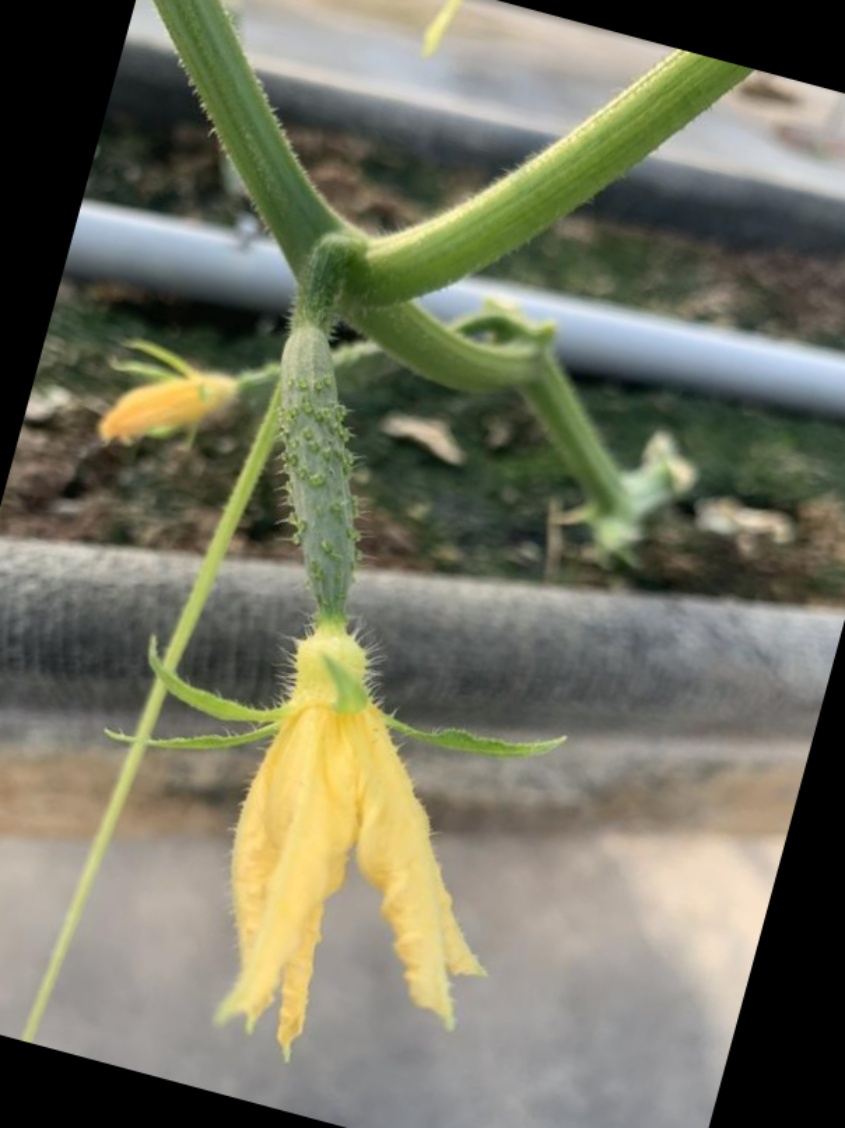bear: (229, 307, 499, 1038)
